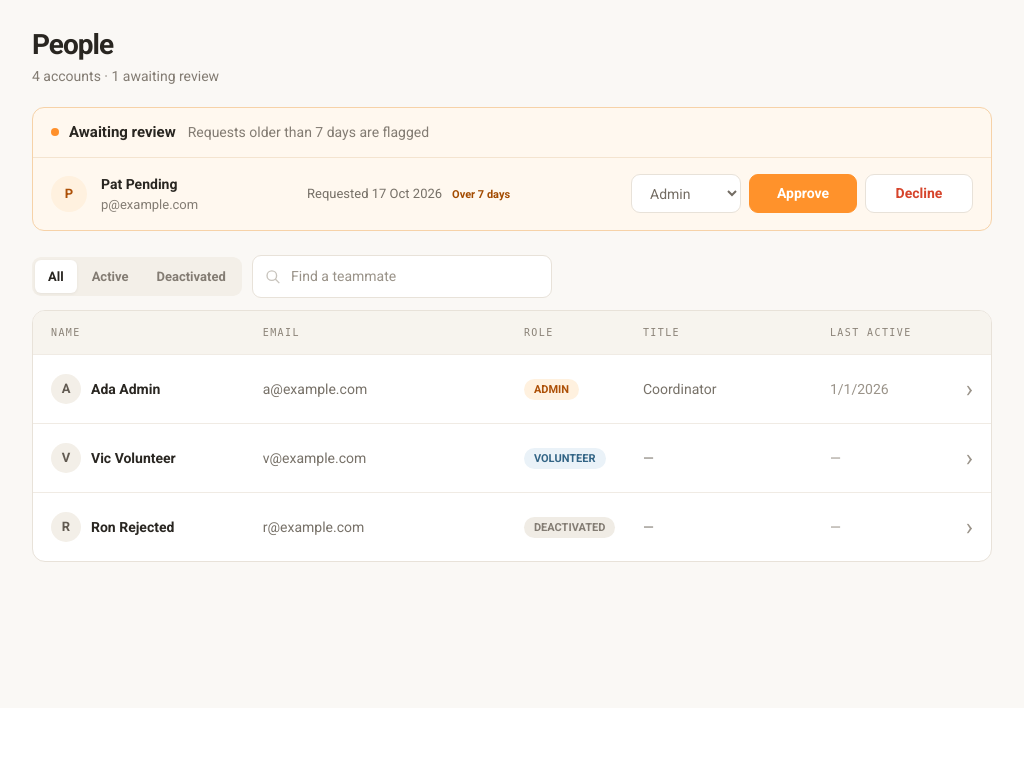
Test case: allows choosing Admin and disables review controls while pending
Select "Admin" in the dropdown named "Role for Pat Pending" at {"x": 686, "y": 194}, box [631,174,741,213]
Click the button "Approve" at {"x": 803, "y": 194}, box [749,174,857,213]
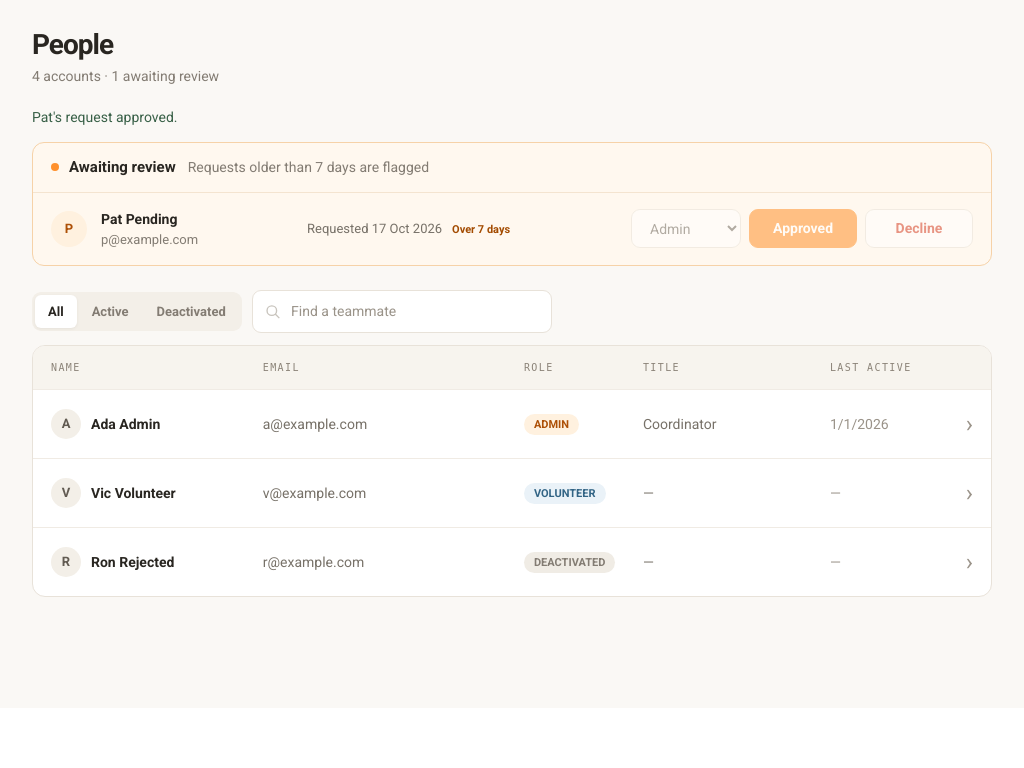
Expected: the dropdown named "Role for Pat Pending" is disabled, [631,209,741,248]
Expected: the button "Decline" is disabled, [865,209,973,248]
Expected: the element with class "review-row" shows "Approved", [749,209,857,248]
